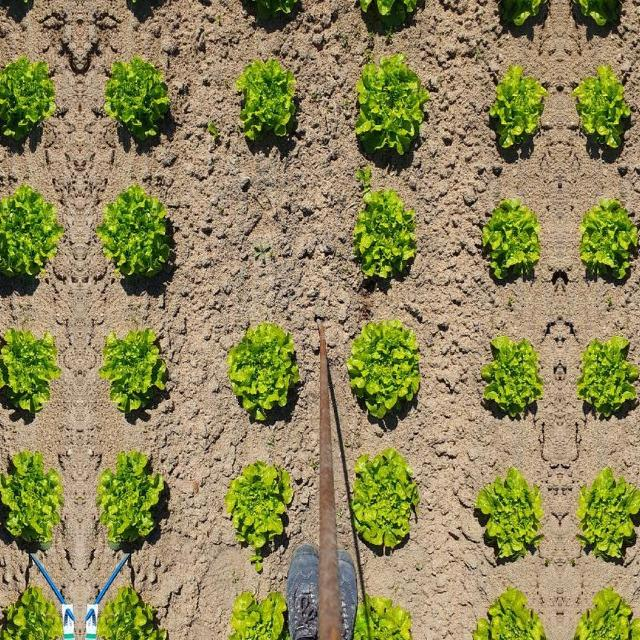healthy: (354, 54, 432, 166), (346, 313, 424, 421), (348, 447, 420, 557), (229, 323, 305, 427), (223, 457, 299, 555), (352, 188, 420, 294), (474, 463, 544, 565), (100, 324, 172, 422), (98, 185, 172, 279), (94, 452, 170, 542), (576, 463, 640, 565), (486, 62, 550, 158), (570, 62, 634, 158), (478, 335, 546, 425), (479, 196, 545, 288), (573, 335, 640, 425), (104, 56, 172, 144), (234, 55, 302, 143), (575, 196, 640, 288), (0, 451, 65, 542), (0, 185, 62, 279), (0, 324, 59, 421), (0, 56, 56, 143), (471, 590, 549, 640), (97, 584, 165, 640), (0, 584, 63, 639), (571, 590, 640, 640), (230, 588, 292, 640), (350, 594, 416, 640)
